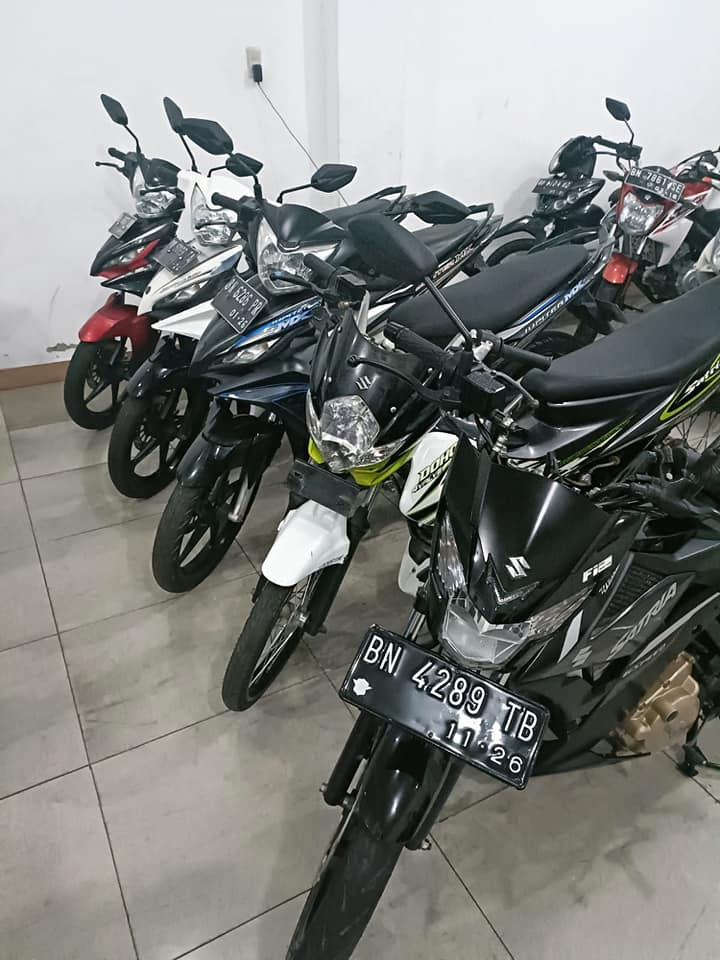plate: (347, 621, 556, 783)
